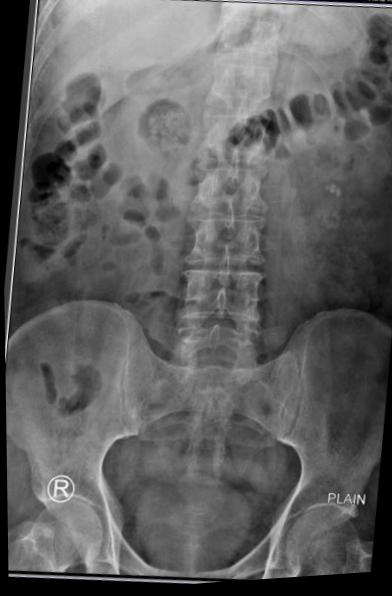bladder: (122, 460, 260, 585)
